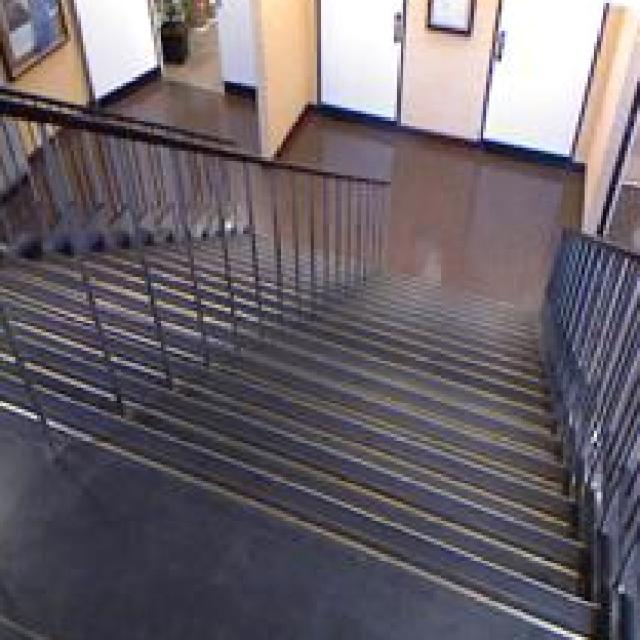downstair: (151, 388, 542, 640)
